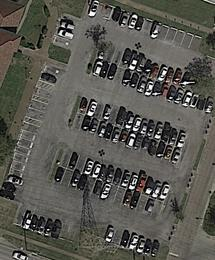parkingspot: (88, 58, 215, 119), (57, 148, 171, 204), (51, 165, 165, 221), (70, 112, 183, 167), (84, 1, 203, 53), (76, 96, 188, 150), (94, 40, 194, 93), (0, 121, 41, 203), (13, 209, 80, 244), (103, 225, 162, 260), (51, 12, 82, 52), (38, 62, 64, 87), (25, 98, 50, 123), (32, 86, 54, 101)
